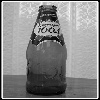beer: (26, 2, 70, 100)
